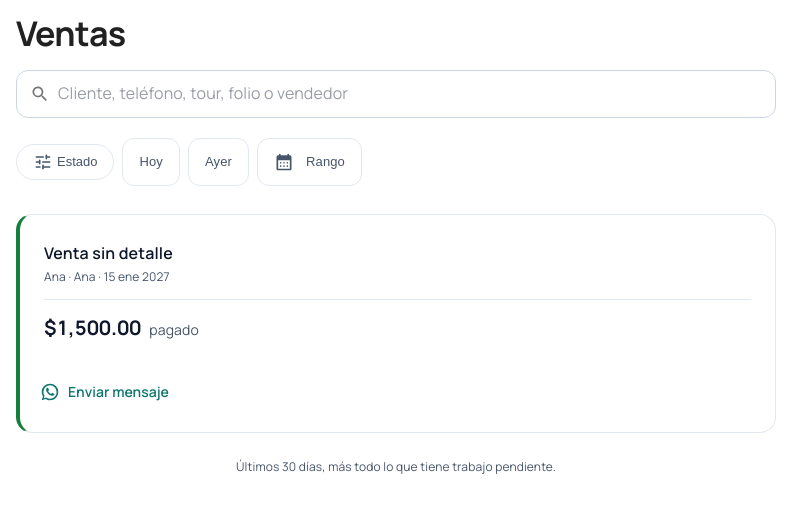
US-A83 — finding one sale › S-7 — a capped fallback says it capped
The image size is (793, 514).
Type "leo" into the field named "Buscar ventas" at {"x": 417, "y": 94}, box [58,70,776,118]
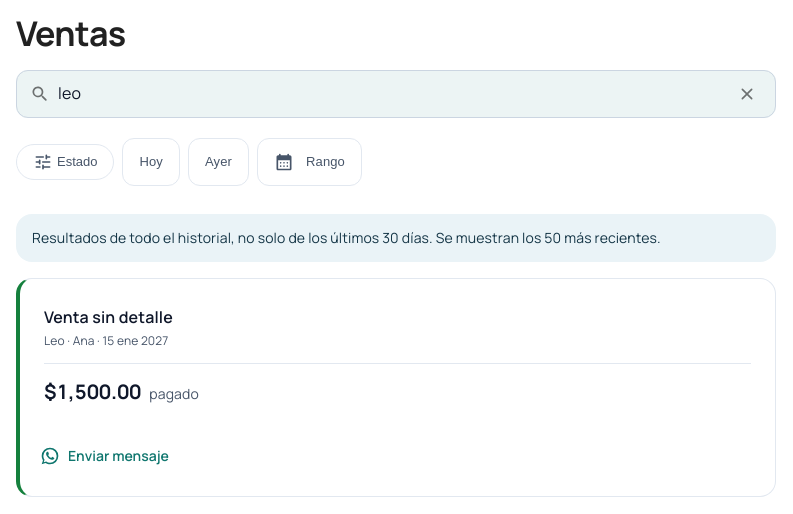
Check: the text "50 más recientes" is shown, box [433,228,661,247]
